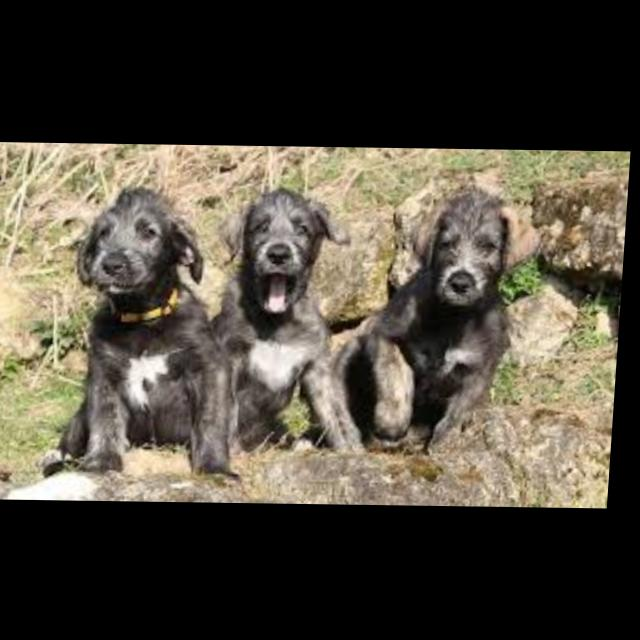other_dog_breed: (45, 184, 260, 480), (328, 180, 548, 455), (208, 185, 385, 457)
